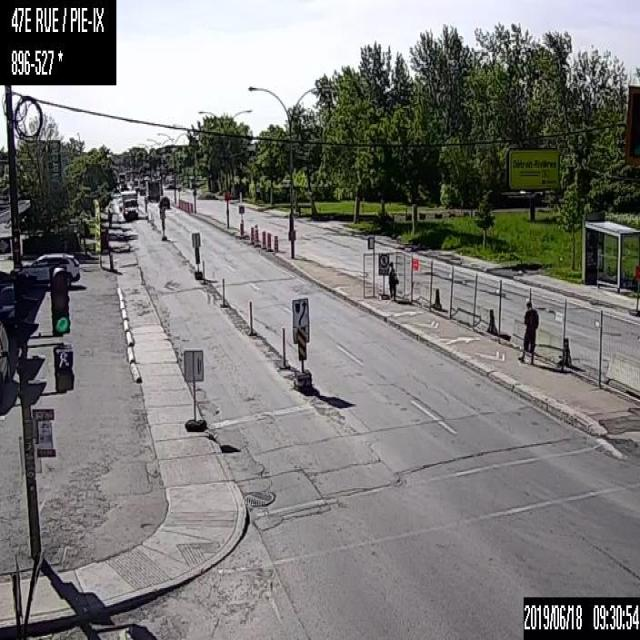construction: (278, 325, 288, 368), (248, 299, 255, 334), (220, 277, 226, 307), (202, 260, 206, 284), (254, 222, 258, 245), (265, 230, 270, 248), (273, 236, 278, 252), (261, 230, 265, 248), (249, 226, 253, 243)
pedestrian: (516, 300, 538, 364), (387, 264, 398, 300)
vehicle: (22, 252, 78, 286), (121, 190, 138, 220), (147, 180, 160, 201), (158, 194, 169, 208)
